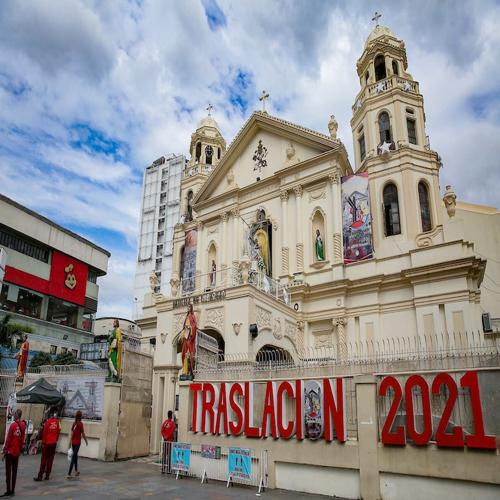Quiapo Church: (104, 1, 475, 484)
